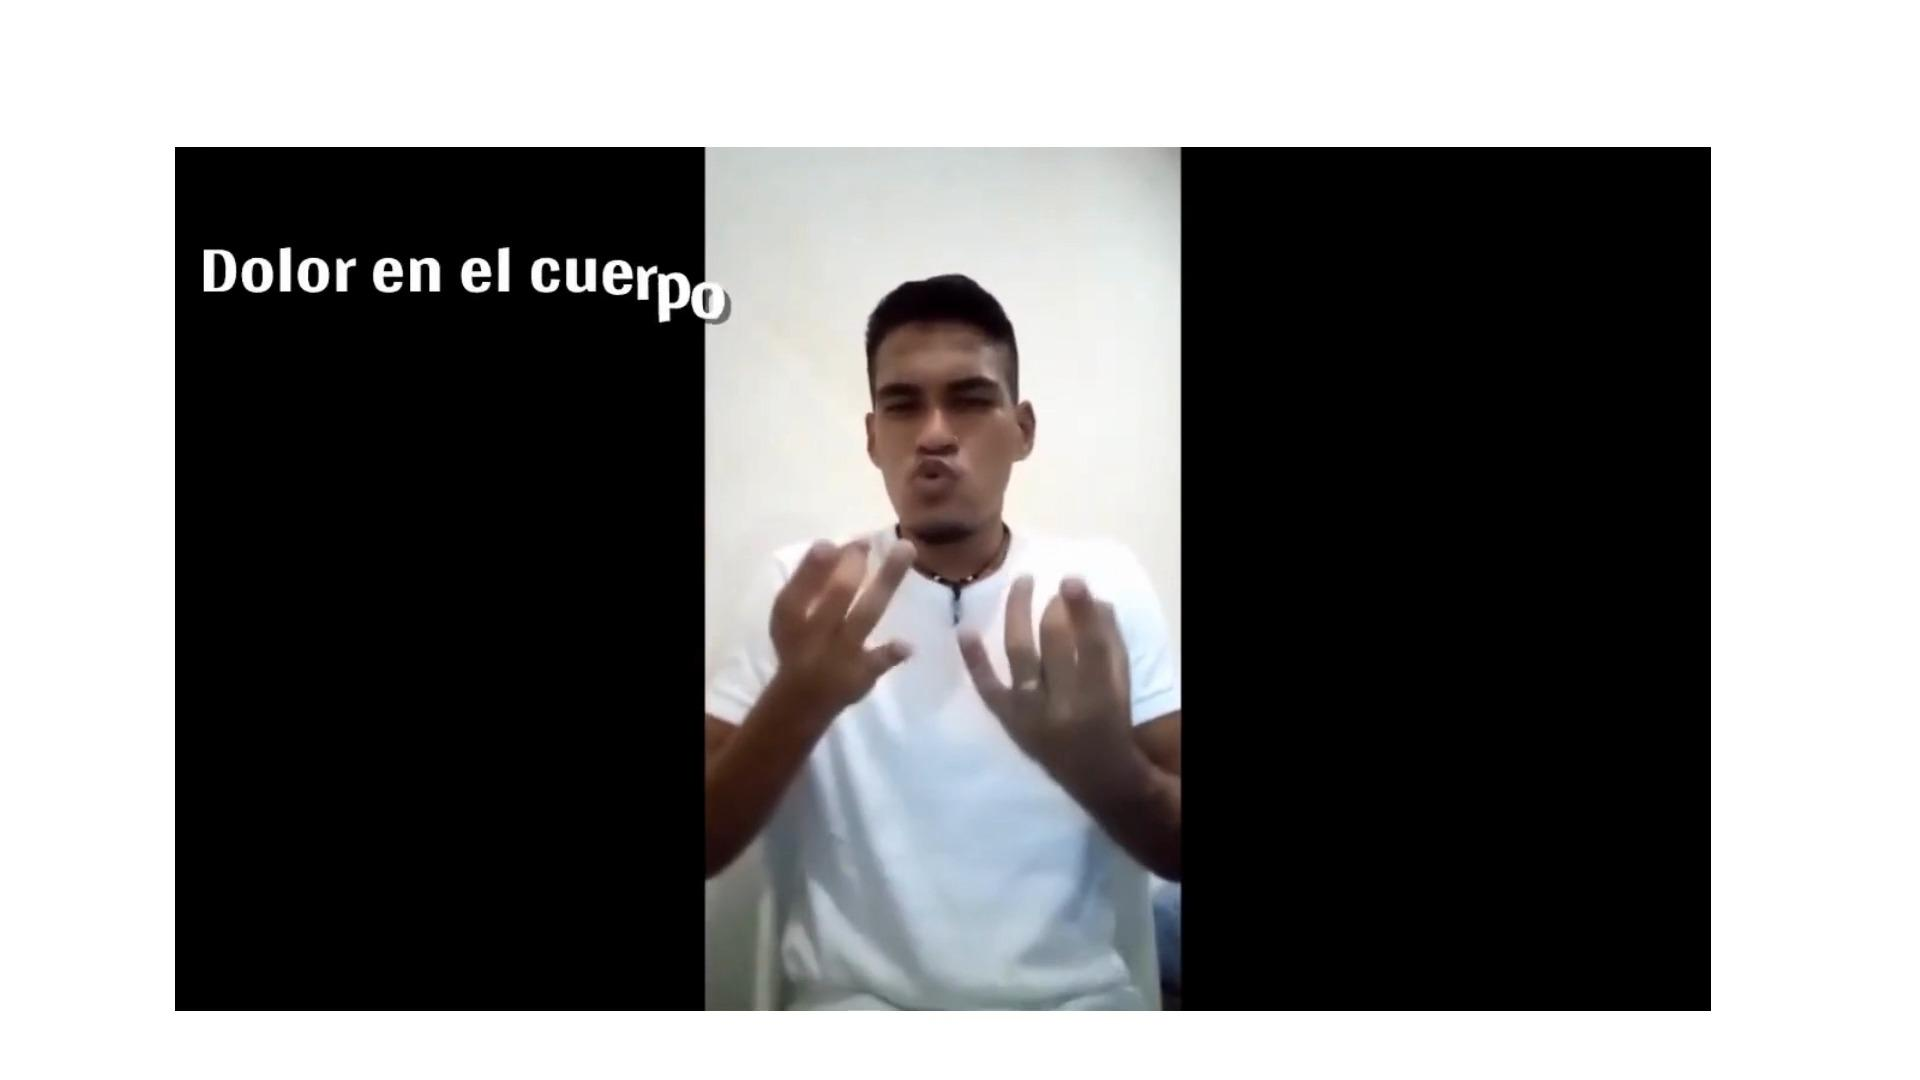Dolor: (741, 237, 1178, 895)
